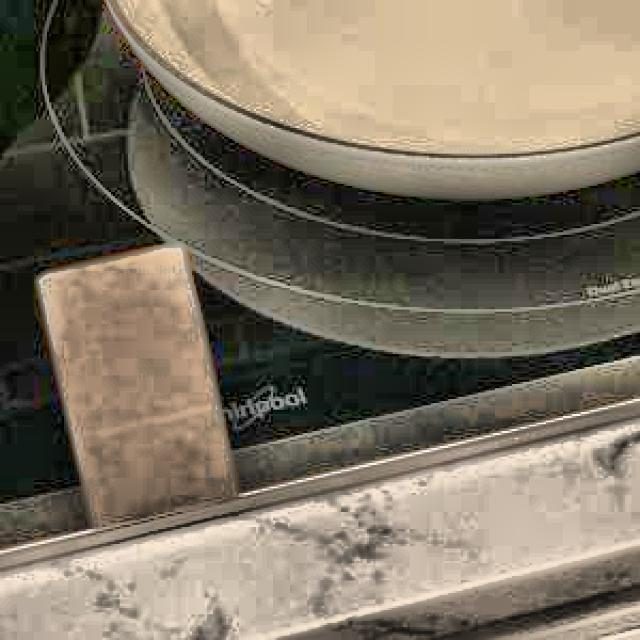Paper-bag: (39, 225, 261, 538)
